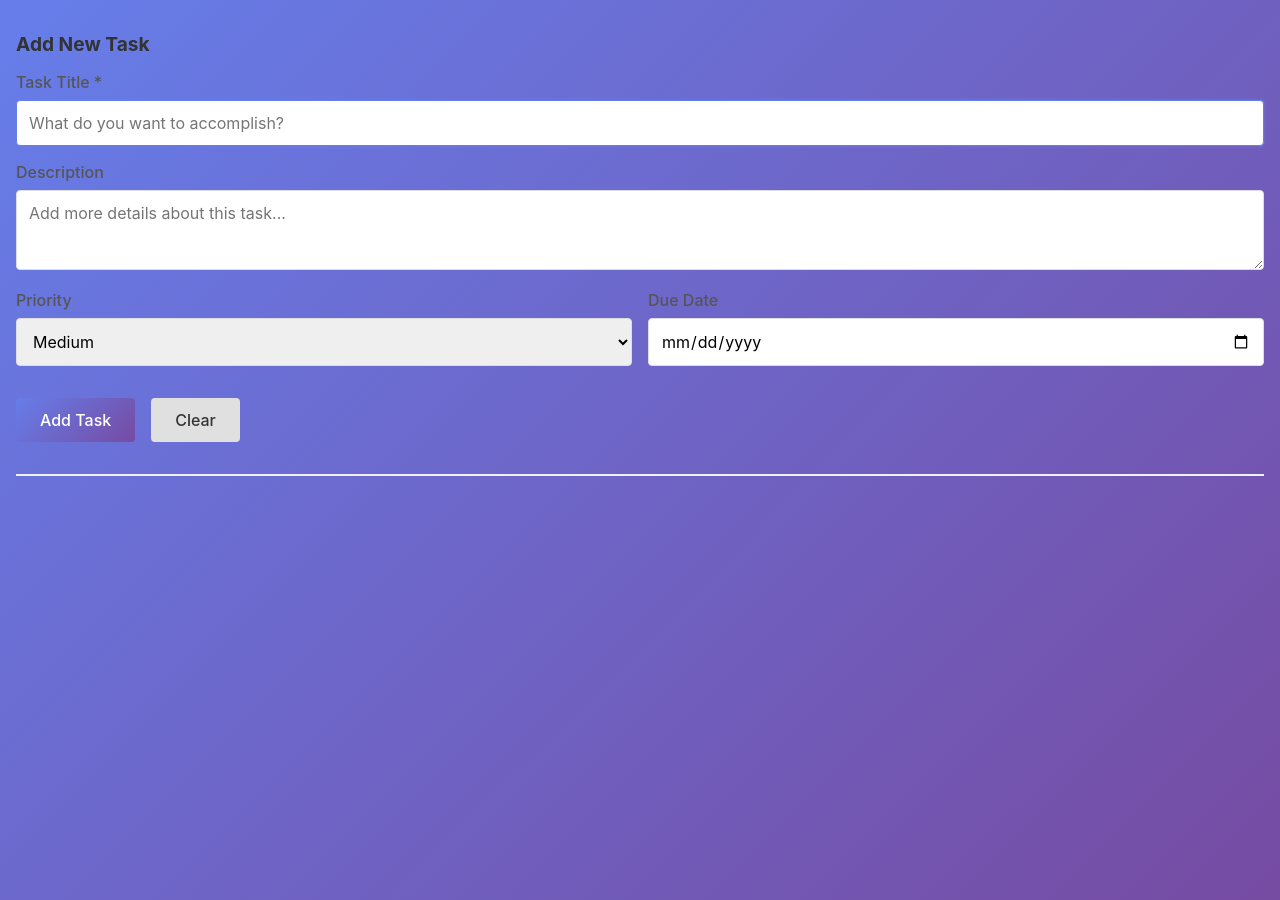
AddTodoForm clears all fields when Clear button is clicked
In the field labelled "Task Title *": (640, 123) [16,100,1264,146], type "Some task"
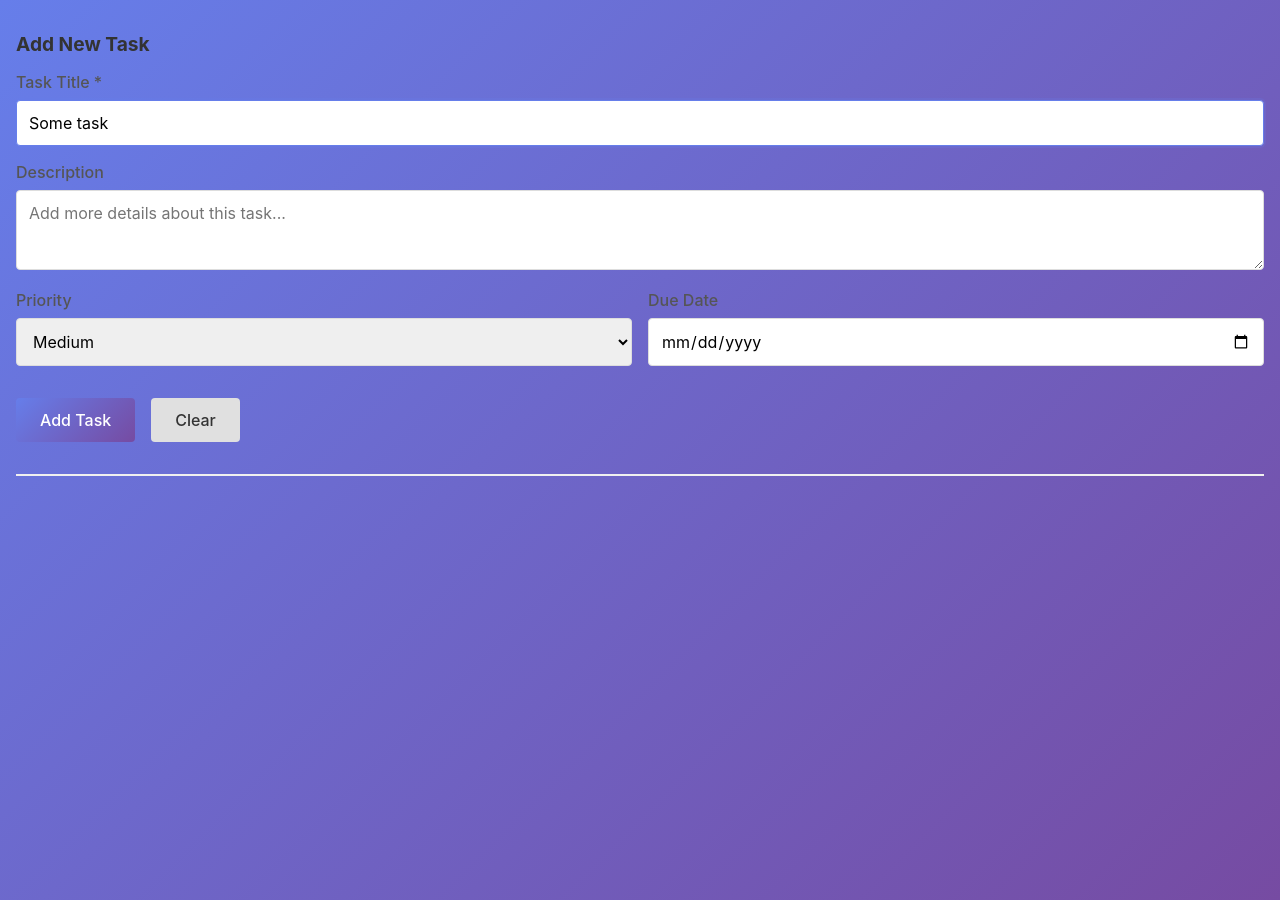
Click the button "Clear": (196, 420) [151,398,240,442]
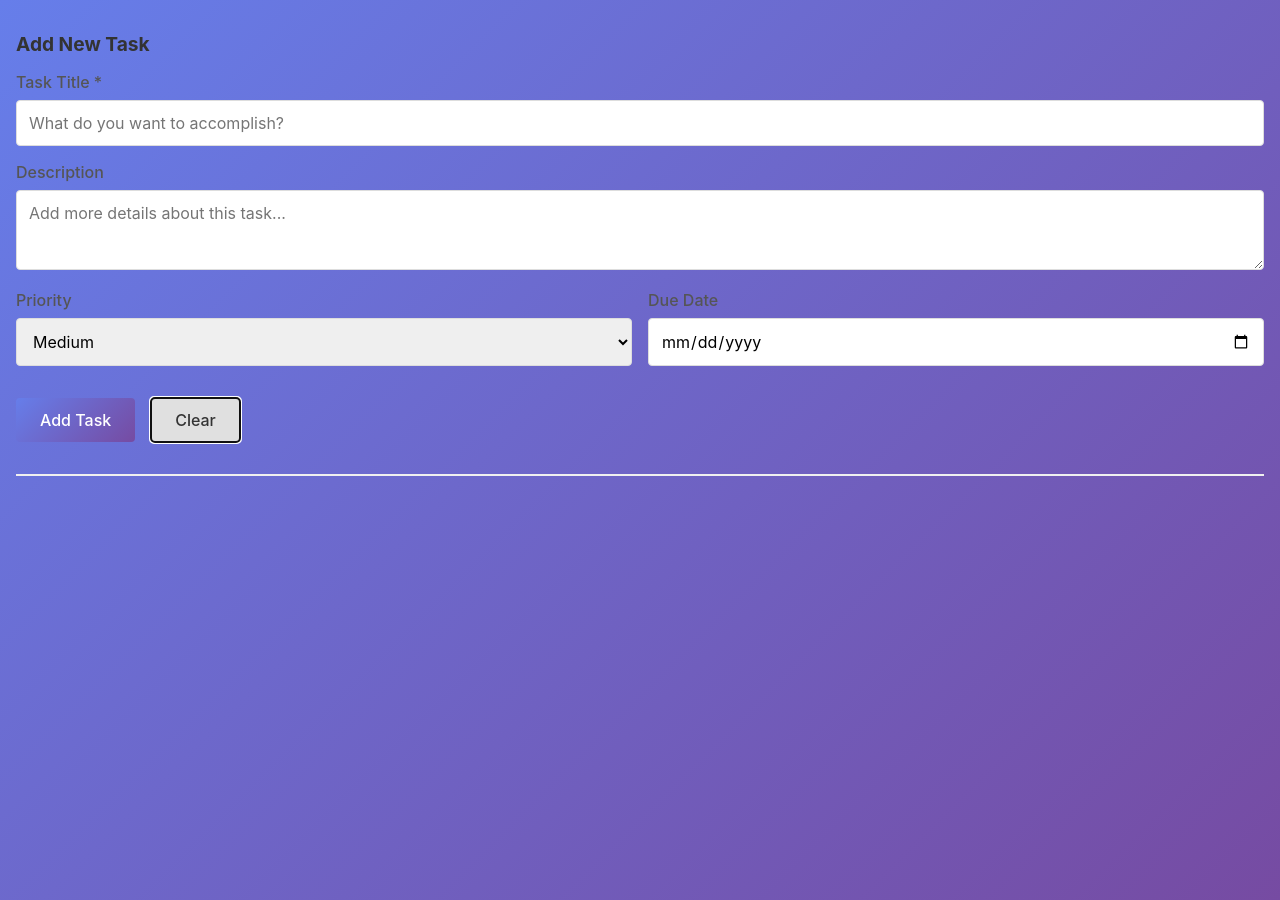
Now the field labelled "Task Title *" is empty, box [16,100,1264,146]
